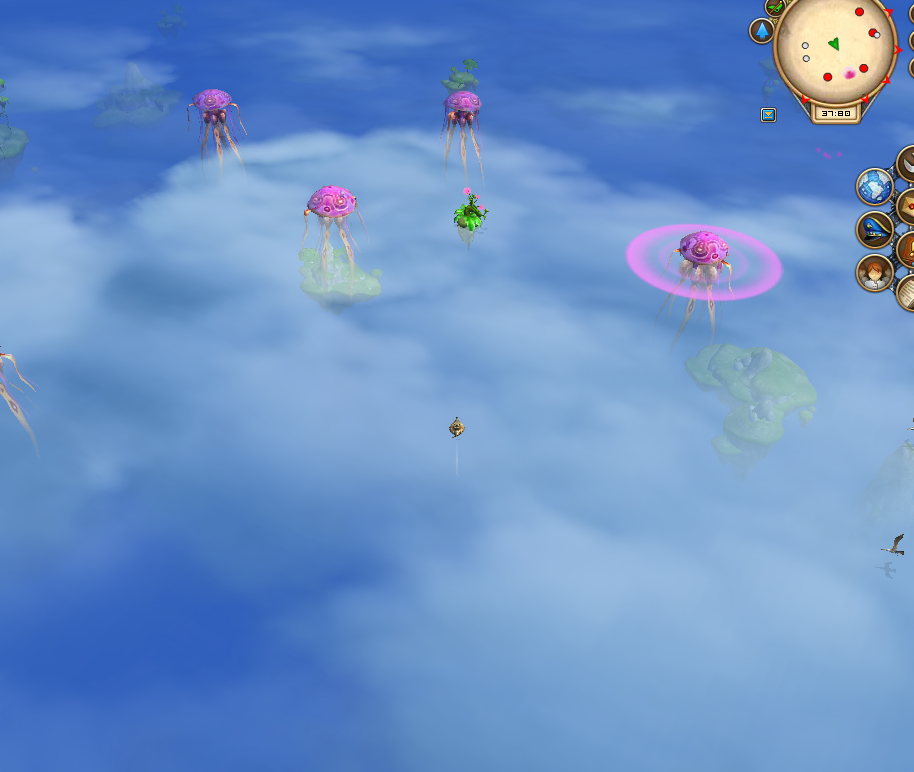dandelion-full: (449, 186, 491, 239)
